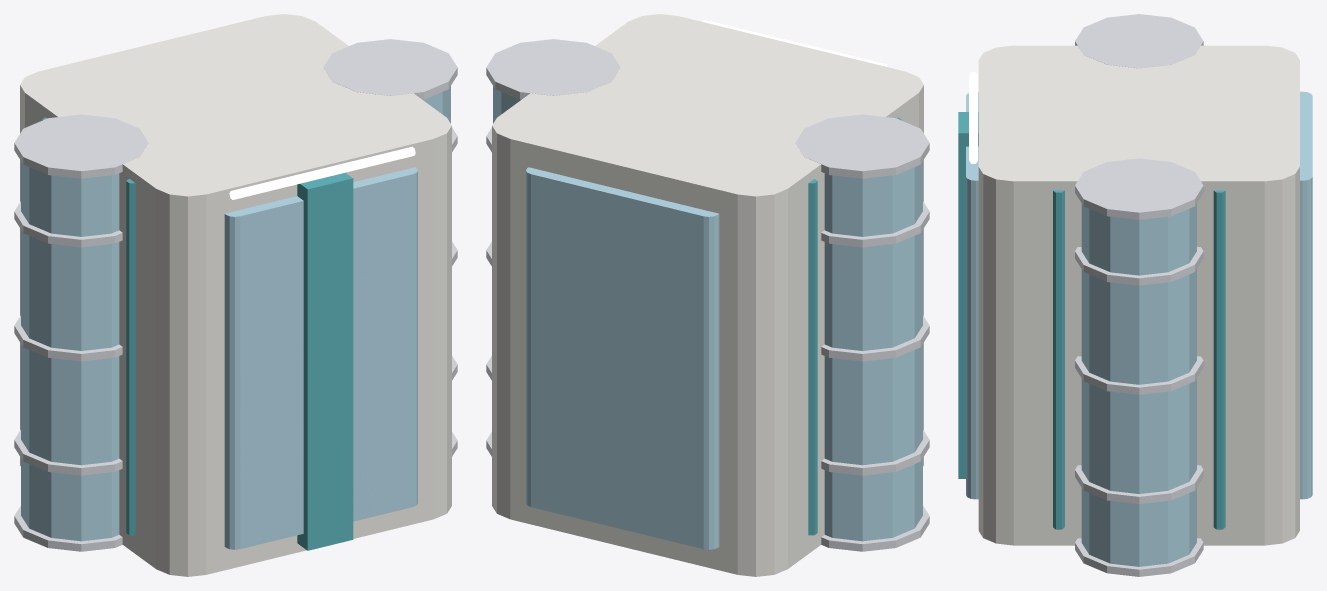
Rendered from arcology-towers-and-skyways-service-core-shaft-fa8c94bf__23242.glb.
3 renders of one model, left to right at view 1: azimuth 30°, elevation 25°; view 2: azimuth 150°, elevation 25°; view 3: azimuth 270°, elevation 25°, orthographic. The views are drawn at different scales.
Parts seen in each view (by area): view 1: service-core-shaft; view 2: service-core-shaft; view 3: service-core-shaft.
Part boxes in pixels (x1,y1,x2,y2): service-core-shaft: (14,14,457,576); service-core-shaft: (486,14,929,576); service-core-shaft: (958,14,1312,576).
Size of the model in its own units: 9.36 by 8 by 7.05.
